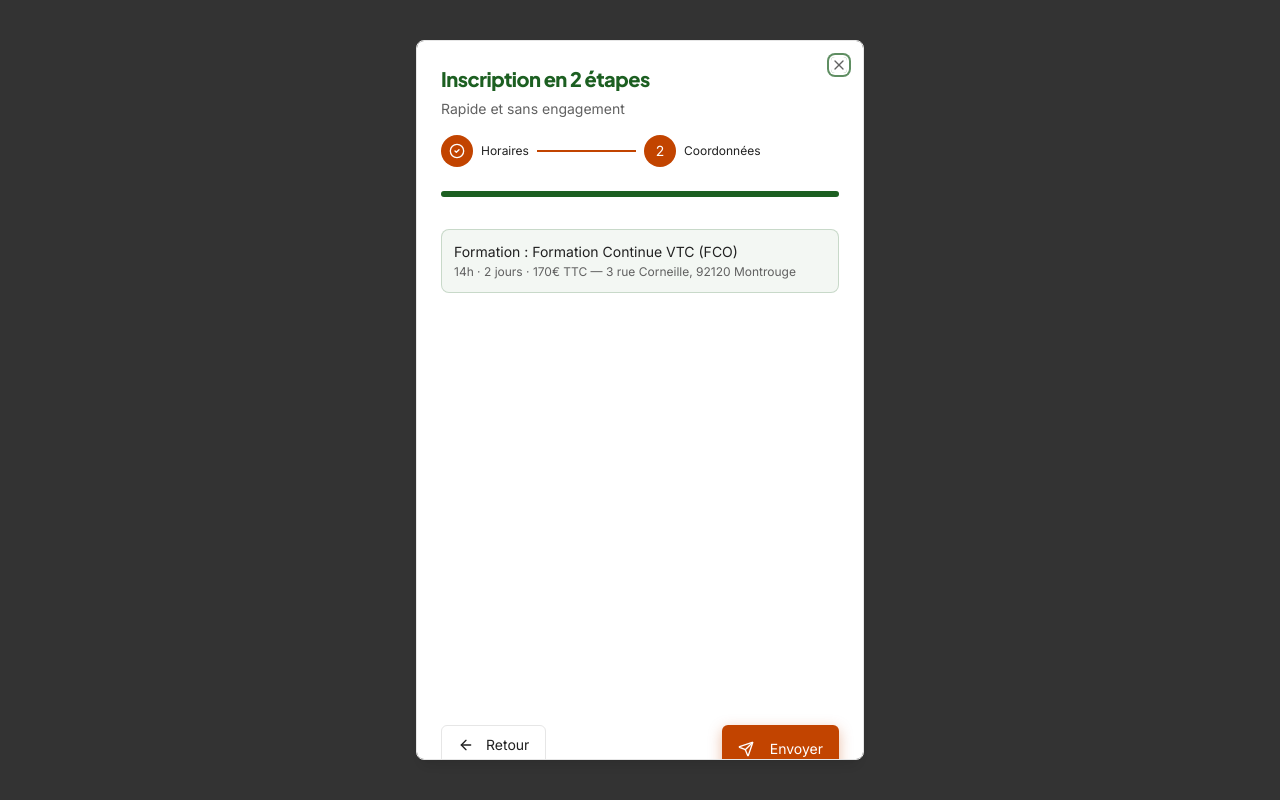
successful saved requests only › offers an explicitly selected callback after a rejected session request
Earlier steps of the test are not shown.
Click the button "Envoyer": (780,749) x1=722 y1=725 x2=839 y2=773
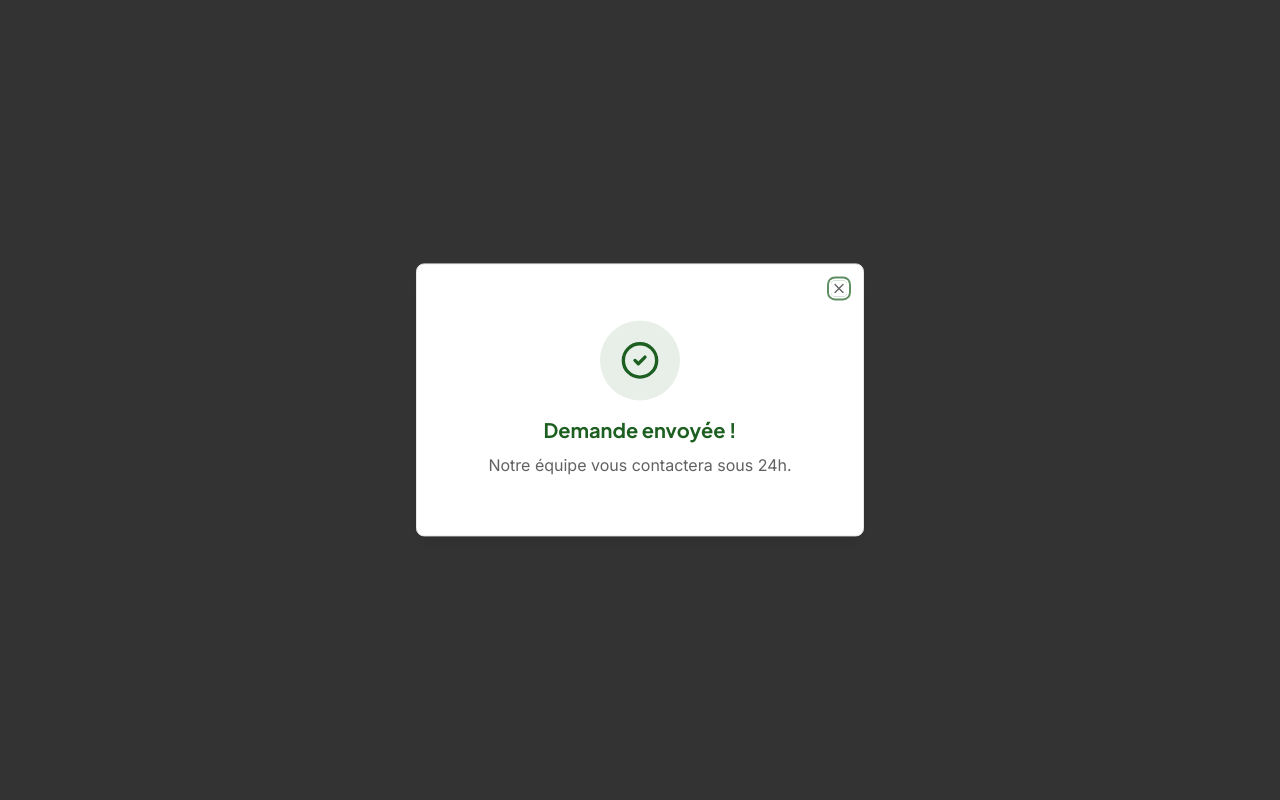
Now the heading "Demande envoyée !" is shown, box x1=544 y1=417 x2=737 y2=442
